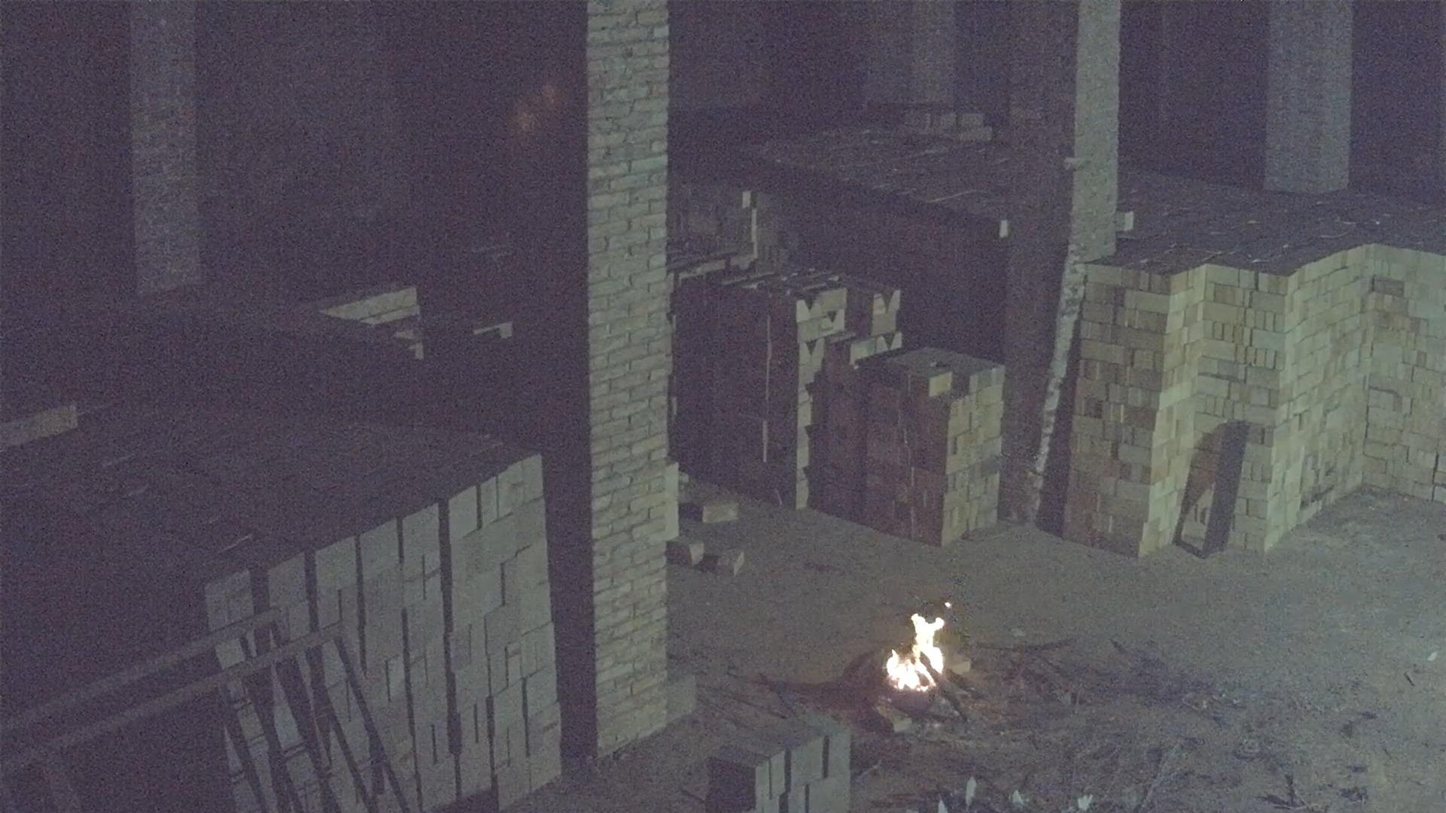fire: (883, 614, 944, 693)
